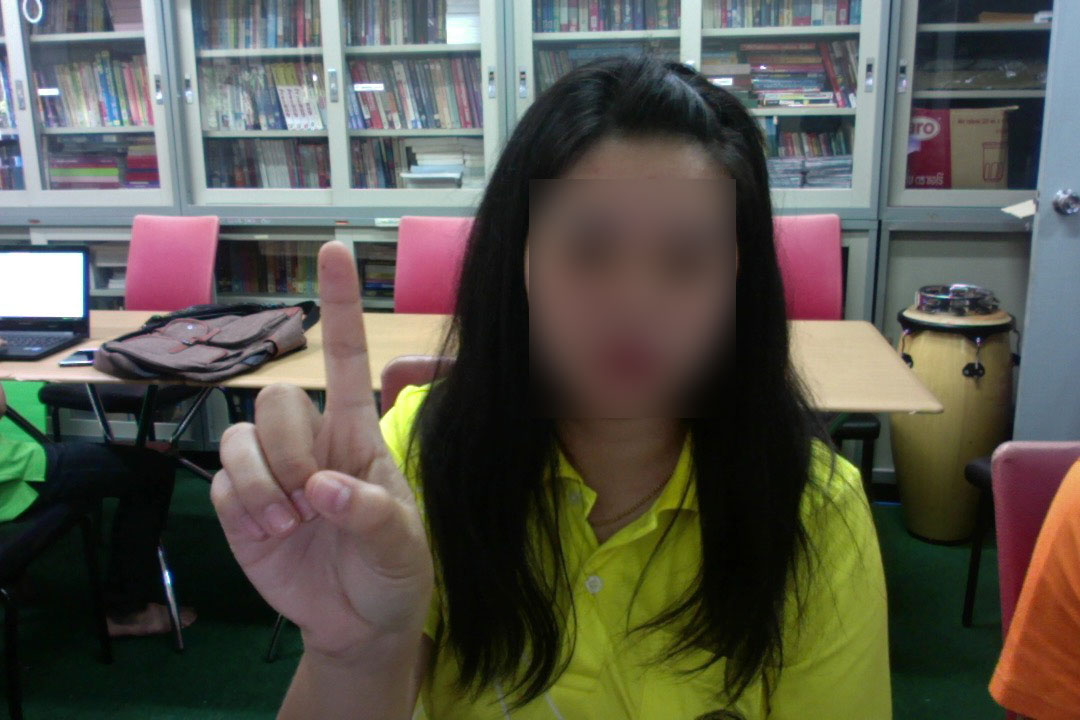dor: (206, 238, 438, 661)
